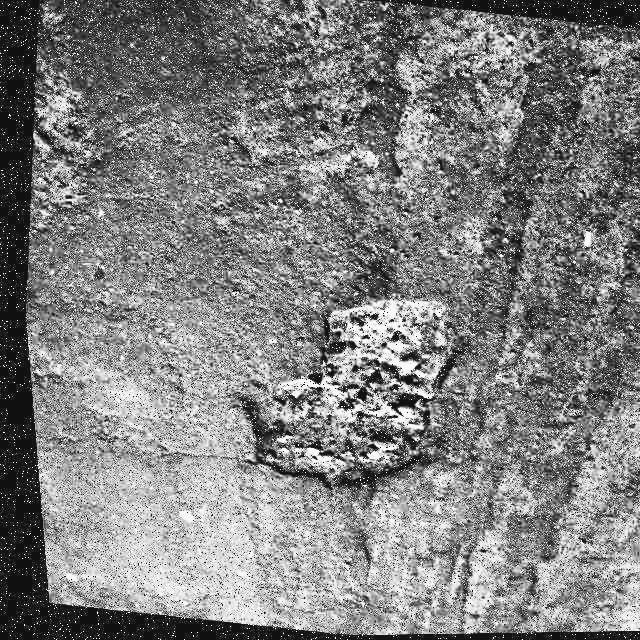Pothole: (211, 276, 478, 513)
